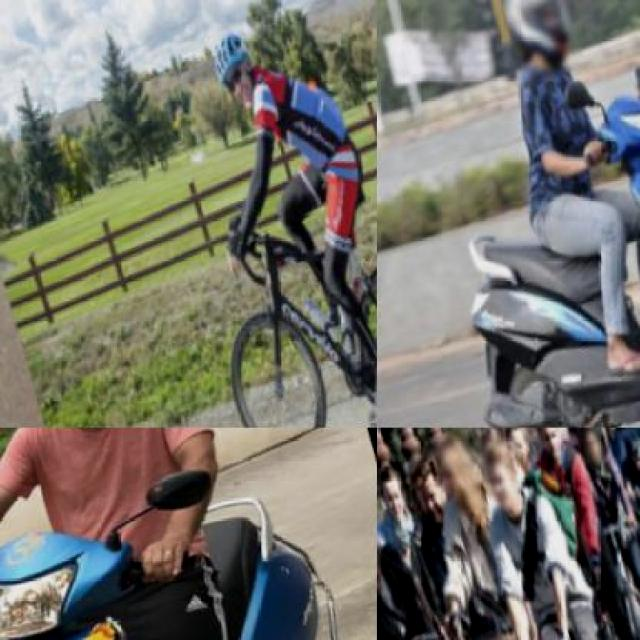With Helmet: (483, 0, 597, 97), (198, 24, 284, 138)
Without Helmet: (426, 428, 497, 528), (470, 431, 532, 523), (523, 428, 577, 482), (572, 428, 616, 480), (377, 500, 397, 589)
